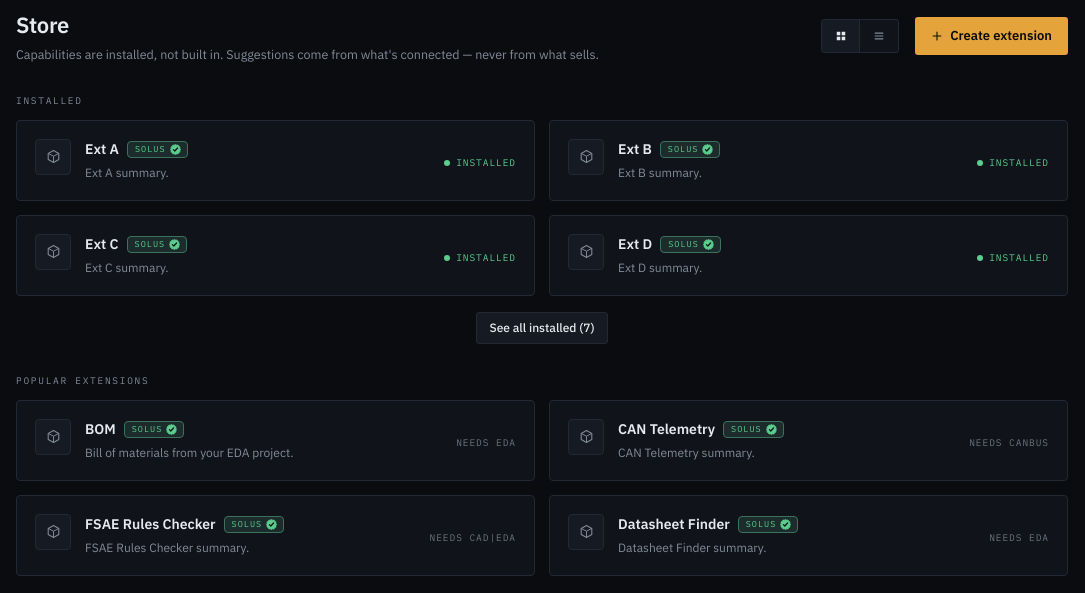
it: StoreScreen › does not re-fetch the detail of an installed extension (its pinned manifest is on the row)
The image size is (1085, 593).
Expected: the element with test id "store-installed" is shown, [16,120,1068,296]
Click the button with aria-label "Open Ext A" at {"x": 53, "y": 157}, box [16,120,535,201]
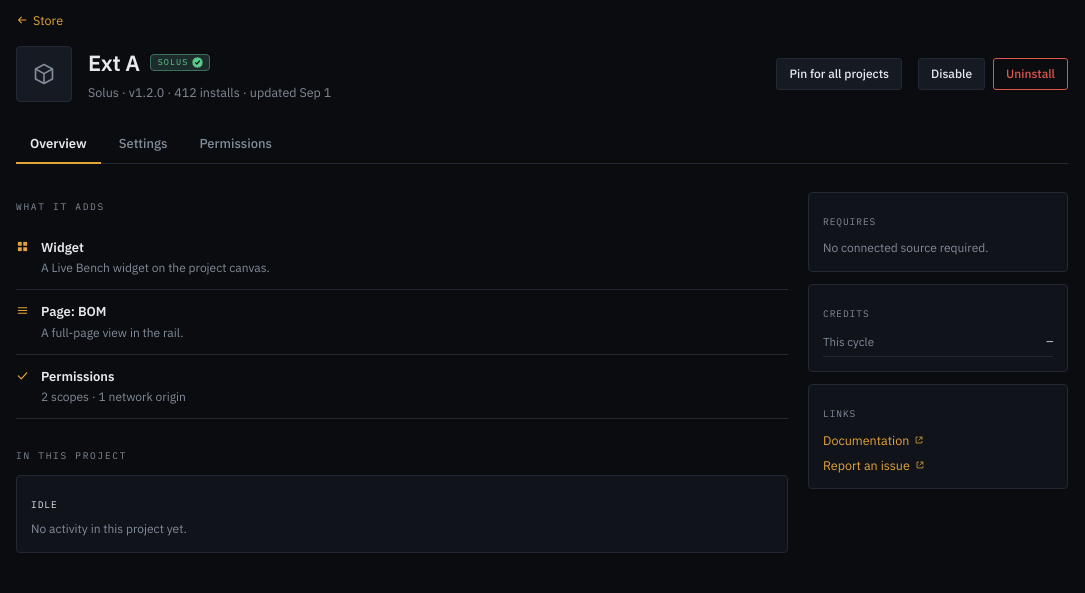
Result: the heading "Ext A" is shown at [88,46,140,79]
